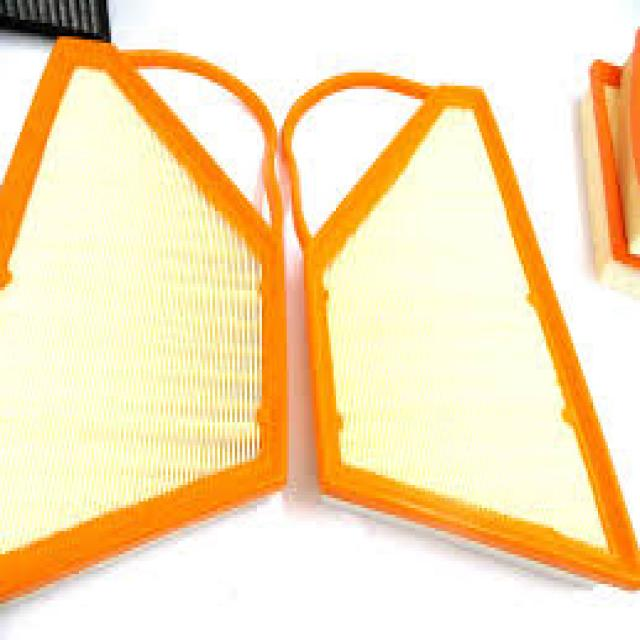air_filter: (286, 69, 640, 600), (0, 43, 279, 610)
